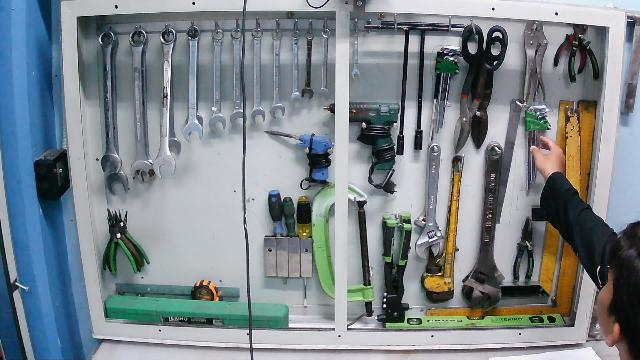kunci_l_bintang: (523, 104, 554, 194)
